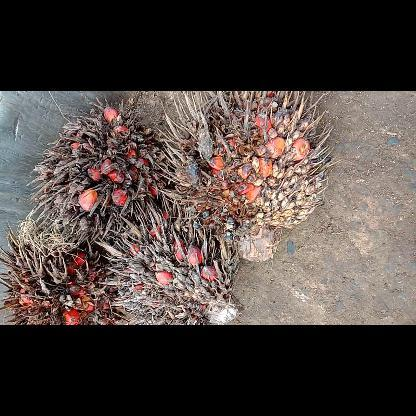Terlalu masak: (152, 92, 342, 262), (24, 96, 180, 242), (90, 196, 248, 324), (0, 216, 128, 324)
